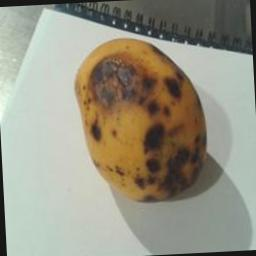Mango Rotten: (61, 20, 219, 207)
